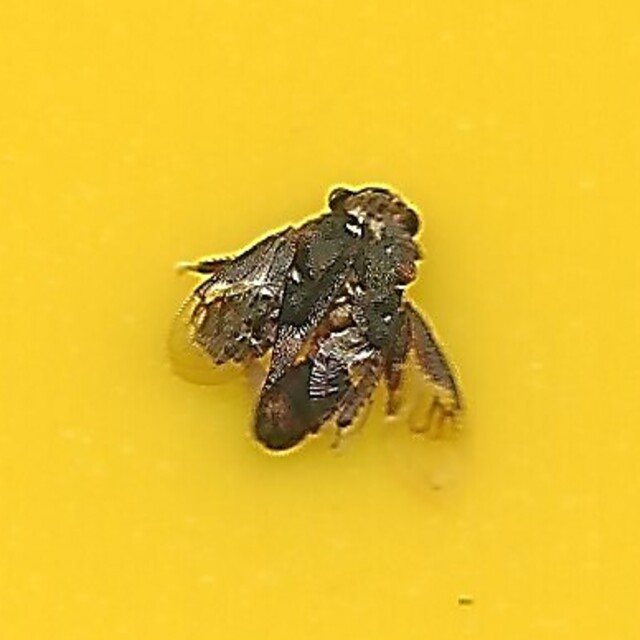Hemiptera: (165, 182, 475, 458)
